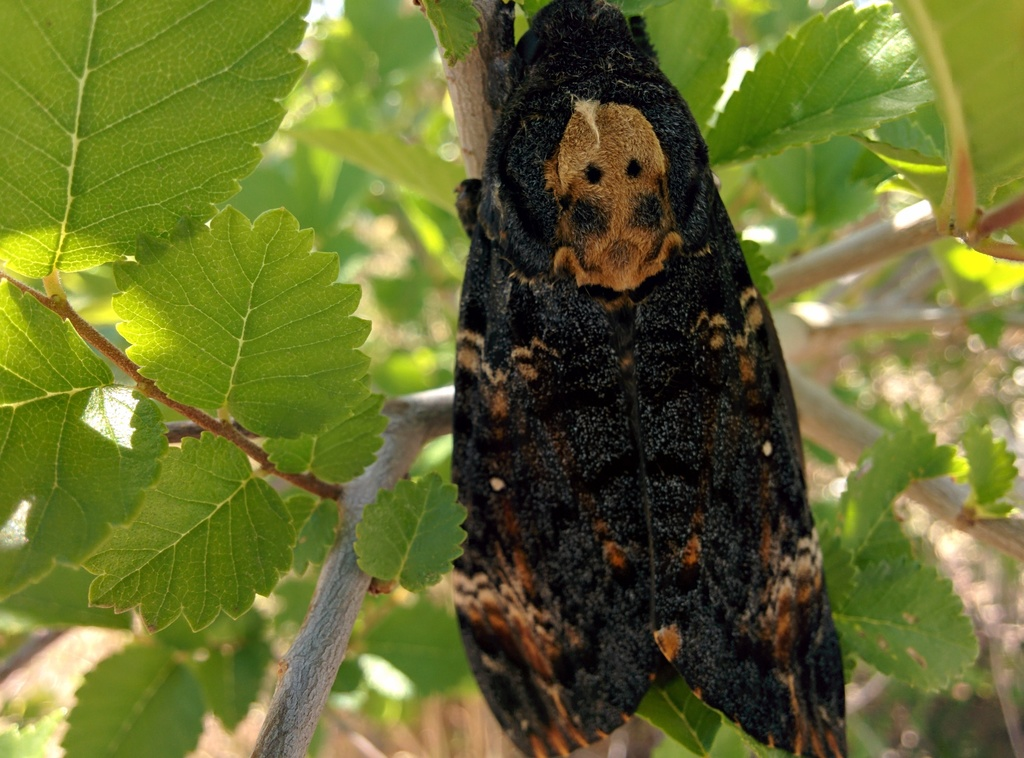Butterfly: (440, 13, 872, 758)
